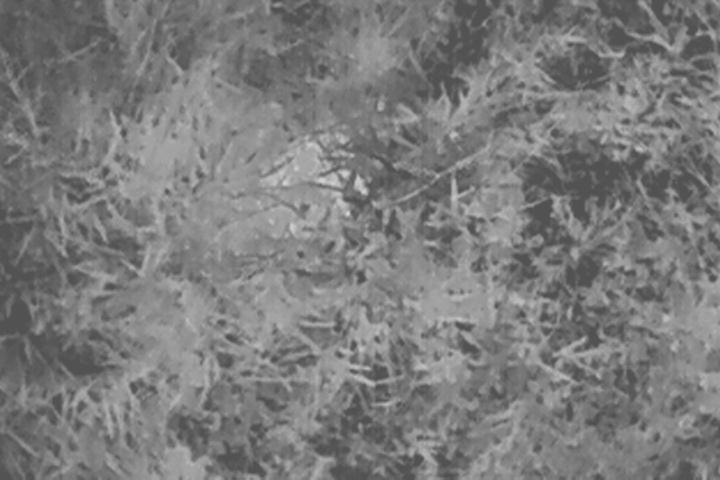landmine: (217, 112, 378, 249)
